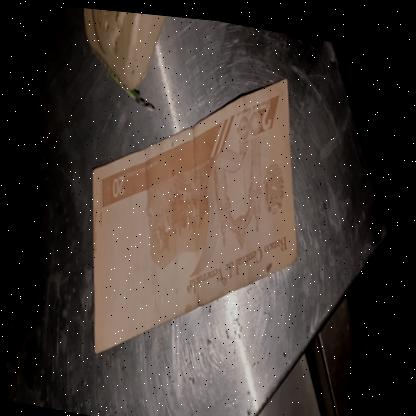twenty-back-vef: (73, 40, 317, 385)
